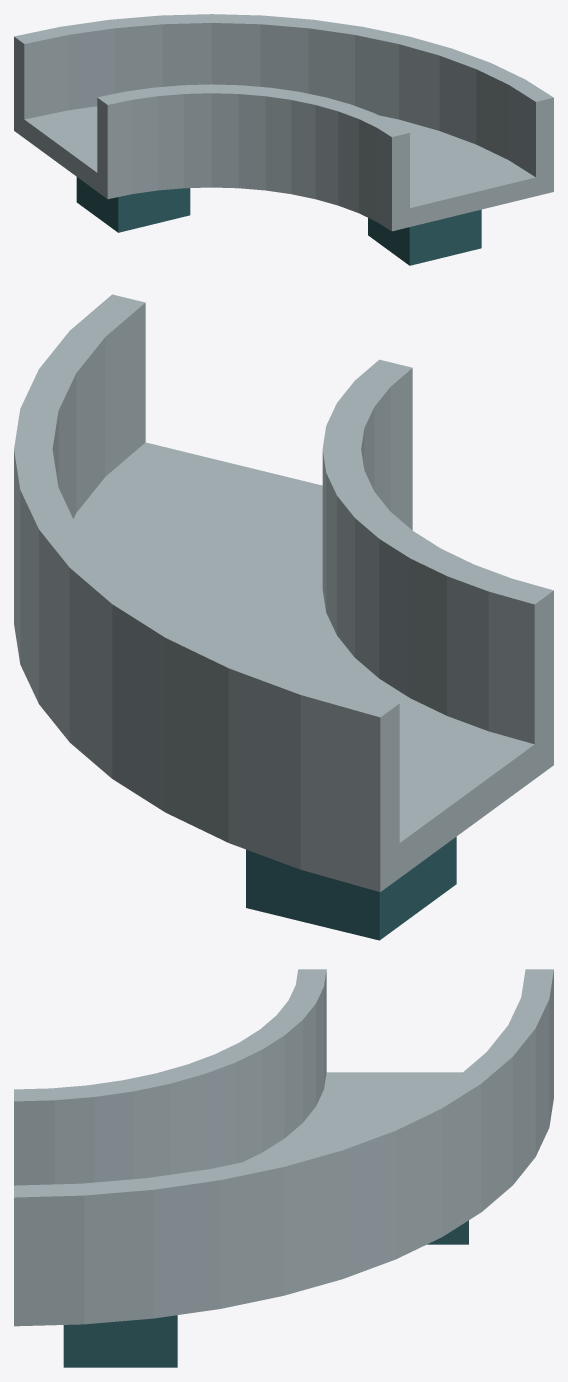
3 renders of one model, top to bottom at view 1: azimuth 30°, elevation 25°; view 2: azimuth 150°, elevation 25°; view 3: azimuth 270°, elevation 25°, orthographic. The views are drawn at different scales.
Parts seen in each view (by area): view 1: ContinuousQuarterTurnUChannel, WholeGroundFoot_0, WholeGroundFoot_1; view 2: ContinuousQuarterTurnUChannel, WholeGroundFoot_1; view 3: ContinuousQuarterTurnUChannel, WholeGroundFoot_0, WholeGroundFoot_1.
Part boxes in pixels (x1,y1,x2,y2): ContinuousQuarterTurnUChannel: (14, 14, 553, 231); WholeGroundFoot_0: (368, 209, 481, 265); WholeGroundFoot_1: (76, 177, 190, 232); ContinuousQuarterTurnUChannel: (14, 294, 553, 892); WholeGroundFoot_1: (246, 837, 456, 940); ContinuousQuarterTurnUChannel: (14, 969, 553, 1326); WholeGroundFoot_0: (63, 1315, 177, 1367); WholeGroundFoot_1: (427, 1220, 468, 1244).
Size of the model in its own units: 0.76 by 0.32 by 0.76.
